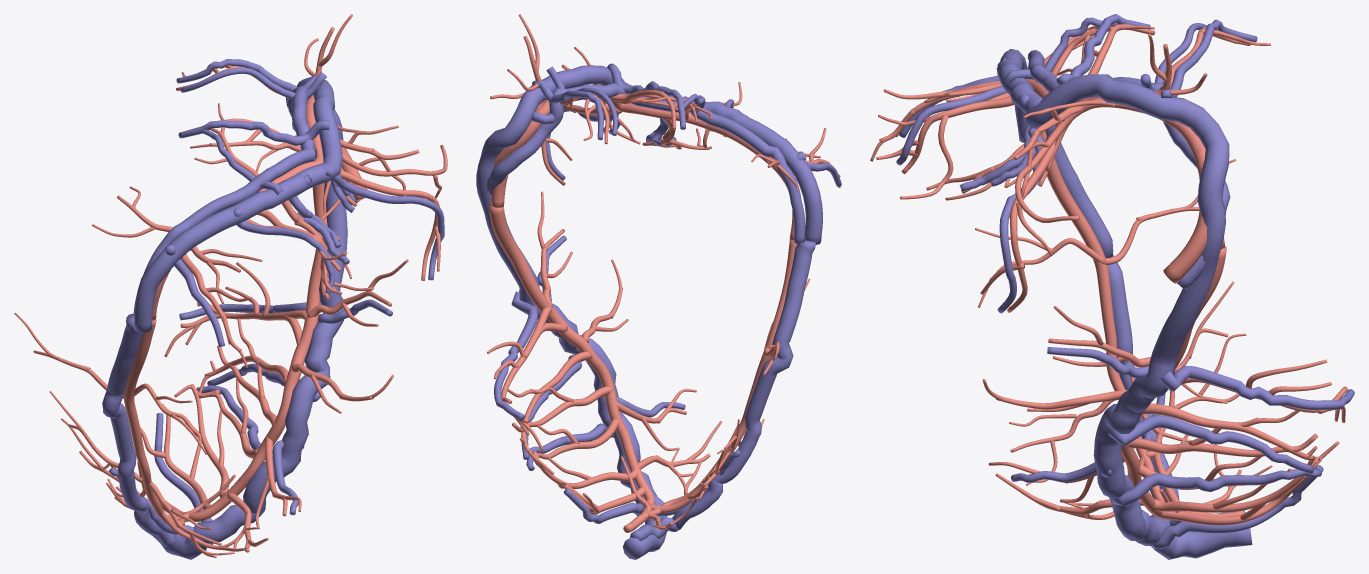
Rendered from vessels_3.glb.
The picture shows the model from 3 angles, left to right: view 1: azimuth 30°, elevation 25°; view 2: azimuth 150°, elevation 25°; view 3: azimuth 270°, elevation 25°; orthographic projection. The views are drawn at different scales.
Parts seen in each view (by area): view 1: Renderer Node; view 2: Renderer Node; view 3: Renderer Node.
Part boxes in pixels (x1,y1,x2,y2): Renderer Node: (14, 14, 447, 559); Renderer Node: (476, 14, 841, 559); Renderer Node: (870, 14, 1354, 559).
Bounding box in the file's own units: 91.56 × 124 × 88.66.
